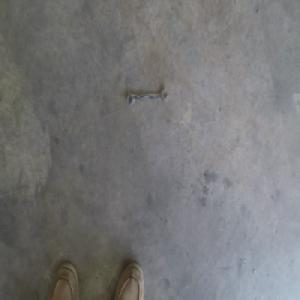Wrench: (126, 88, 169, 105)
